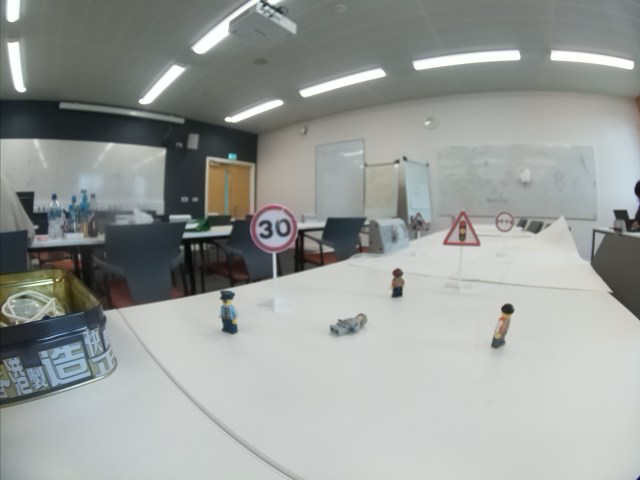30mph: (248, 202, 298, 253)
6ft6: (495, 212, 514, 231)
Lego Man: (491, 301, 517, 349), (327, 311, 368, 337), (218, 288, 241, 334), (389, 267, 406, 299)
Roadworks: (408, 211, 432, 230)
Traffic lights: (442, 211, 483, 244)
